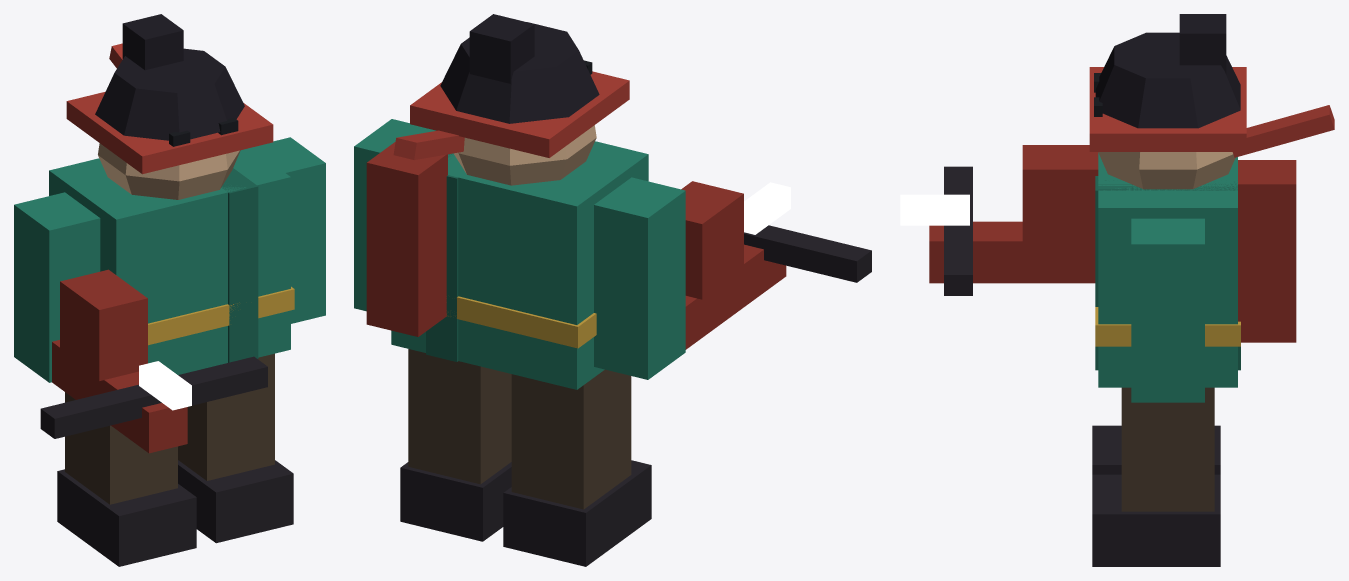
The model's file is unit_ranger.glb.
3 views of the same model, side by side, from view 1: azimuth 30°, elevation 25°; view 2: azimuth 150°, elevation 25°; view 3: azimuth 270°, elevation 25° (orthographic). The views are drawn at different scales.
Visible parts, largest first — view 1: body, arm_l, leg_l, leg_r, arm_r, glow; view 2: body, arm_l, leg_l, leg_r, arm_r, glow; view 3: body, leg_r, arm_l, arm_r, glow, leg_l.
Boxes of the visible parts, <box> form: body: <box>49,14,294,374</box>; arm_l: <box>14,192,267,453</box>; leg_l: <box>57,392,196,566</box>; leg_r: <box>178,353,293,543</box>; arm_r: <box>251,137,325,323</box>; glow: <box>139,361,191,410</box>; body: <box>366,14,648,389</box>; arm_l: <box>594,177,871,379</box>; leg_l: <box>503,369,651,566</box>; leg_r: <box>400,349,511,541</box>; arm_r: <box>354,119,433,311</box>; glow: <box>744,182,790,234</box>; body: <box>1089,14,1334,387</box>; leg_r: <box>1092,387,1220,566</box>; arm_l: <box>929,145,1098,295</box>; arm_r: <box>1131,218,1204,402</box>; glow: <box>900,194,969,225</box>; leg_l: <box>1092,425,1220,474</box>.
Bounding box in the file's own units: 0.745 × 0.945 × 0.746.
